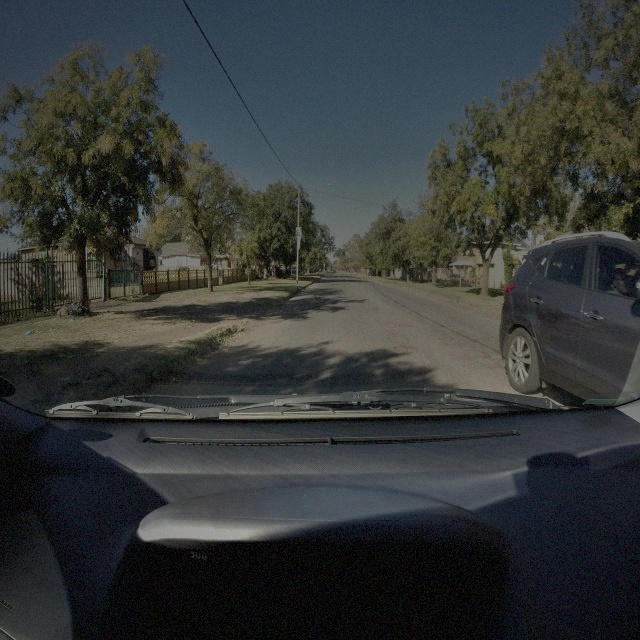pothole: (393, 343, 420, 355), (398, 322, 412, 328)
